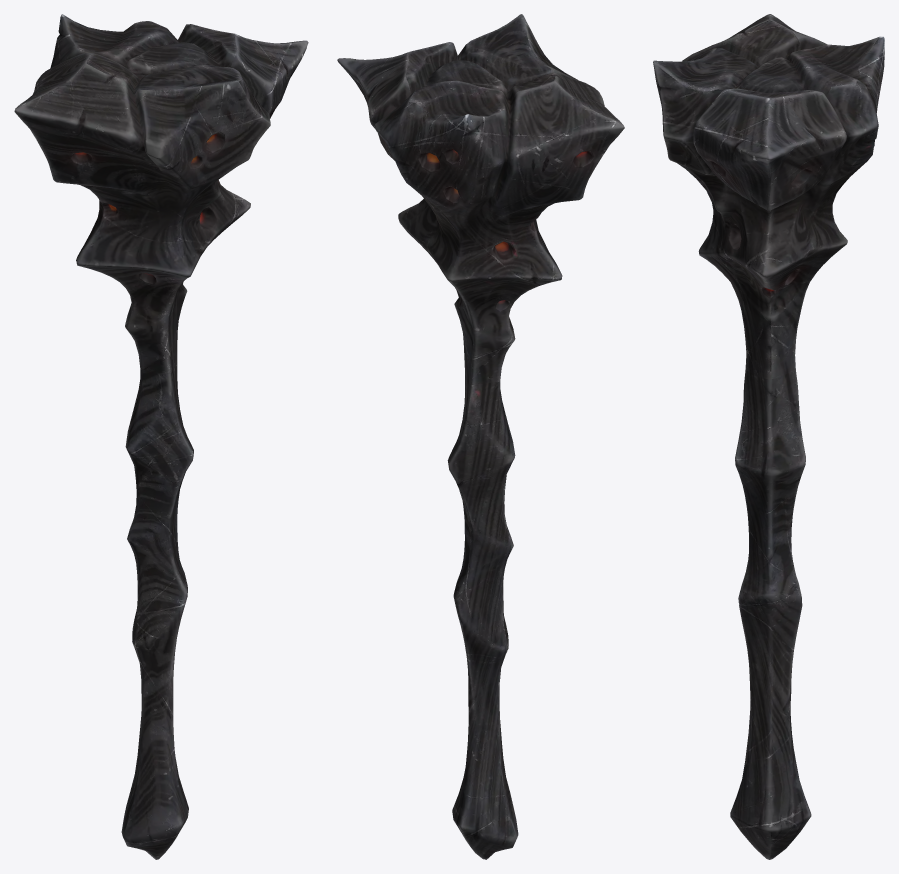
3 renders of one model, left to right at view 1: azimuth 30°, elevation 25°; view 2: azimuth 150°, elevation 25°; view 3: azimuth 270°, elevation 25°, orthographic. The views are drawn at different scales.
Visible parts, largest first — view 1: SM_KotHaar_Ket_Hammer_1H_01_LOD0; view 2: SM_KotHaar_Ket_Hammer_1H_01_LOD0; view 3: SM_KotHaar_Ket_Hammer_1H_01_LOD0.
Boxes of the visible parts, bbox=[...] form: SM_KotHaar_Ket_Hammer_1H_01_LOD0: bbox=[14, 14, 308, 859]; SM_KotHaar_Ket_Hammer_1H_01_LOD0: bbox=[337, 14, 624, 859]; SM_KotHaar_Ket_Hammer_1H_01_LOD0: bbox=[653, 14, 884, 859].
Bounding box in the file's own units: 0.3502 × 0.9304 × 0.2415.
1 material, 1 textured.
